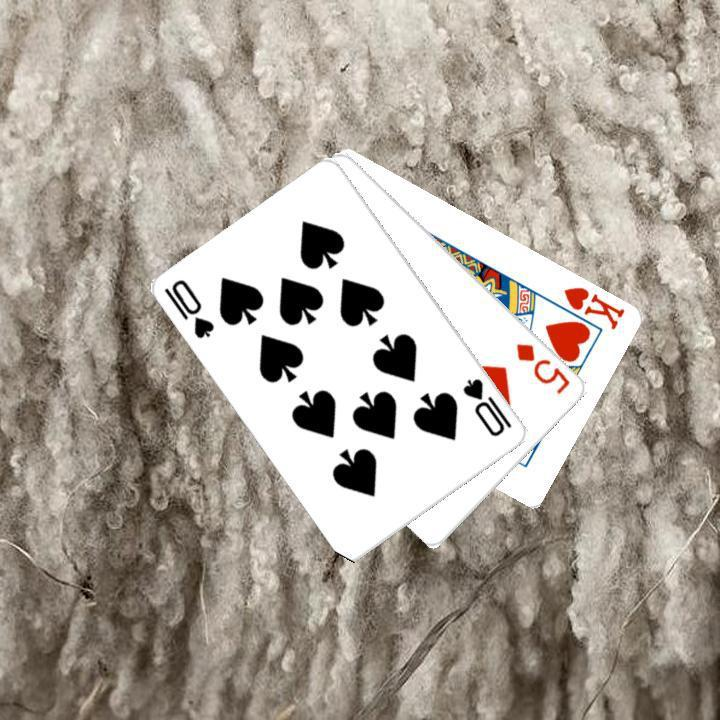10: (160, 274, 217, 341), (458, 374, 515, 439)
5: (512, 338, 573, 397)
K: (559, 282, 628, 332)
